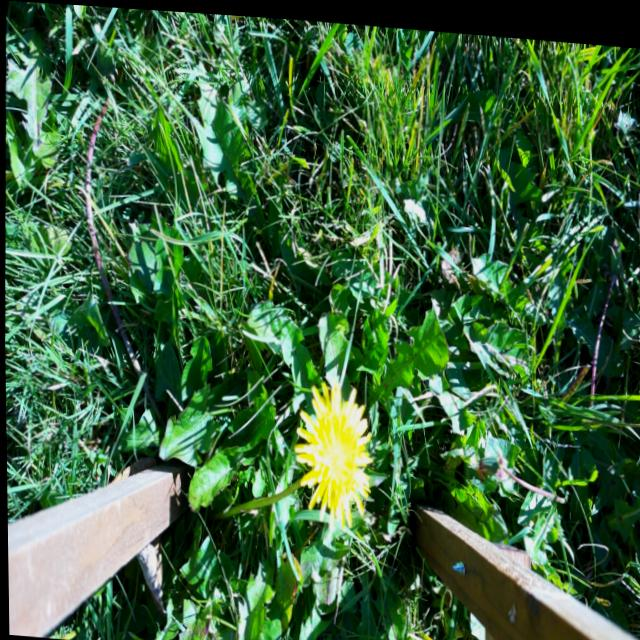base: (148, 396, 173, 439), (206, 494, 230, 531)
